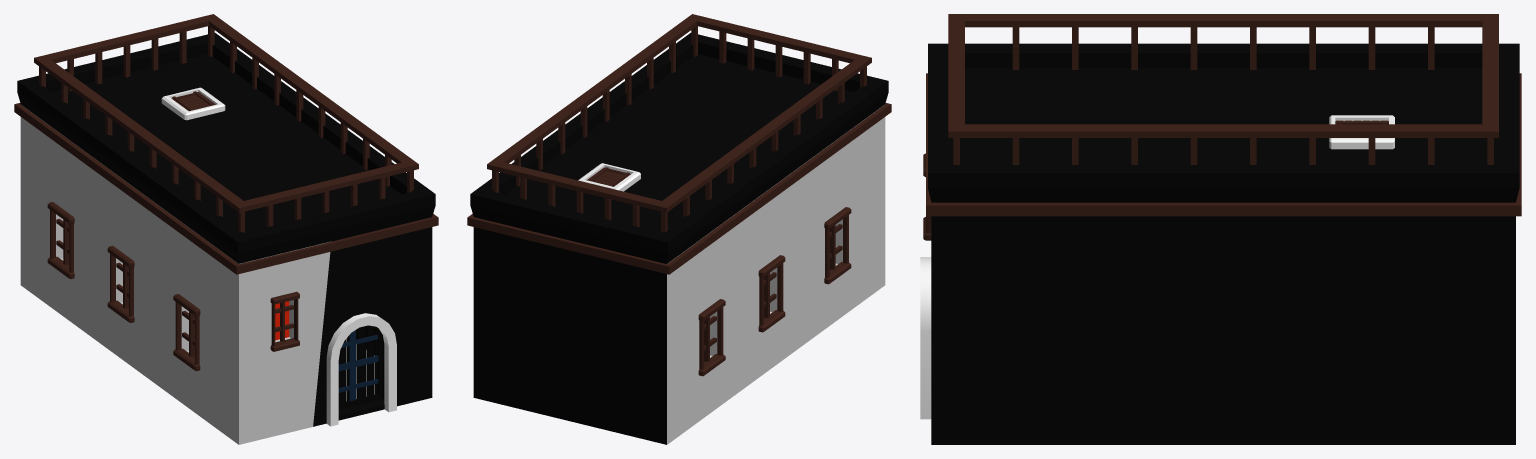
File: civilian_house_38_c.FBX
3 renders of one model, left to right at view 1: azimuth 30°, elevation 25°; view 2: azimuth 150°, elevation 25°; view 3: azimuth 270°, elevation 25°, orthographic. The views are drawn at different scales.
Visible parts, largest first — view 1: civilian_house_38_c; view 2: civilian_house_38_c; view 3: civilian_house_38_c.
Boxes of the visible parts, box(x1,y1,x2,y2) form: civilian_house_38_c: box(14, 14, 438, 444); civilian_house_38_c: box(467, 14, 891, 444); civilian_house_38_c: box(920, 14, 1521, 444).
Bounding box in the file's own units: 537 × 583 × 1028.
